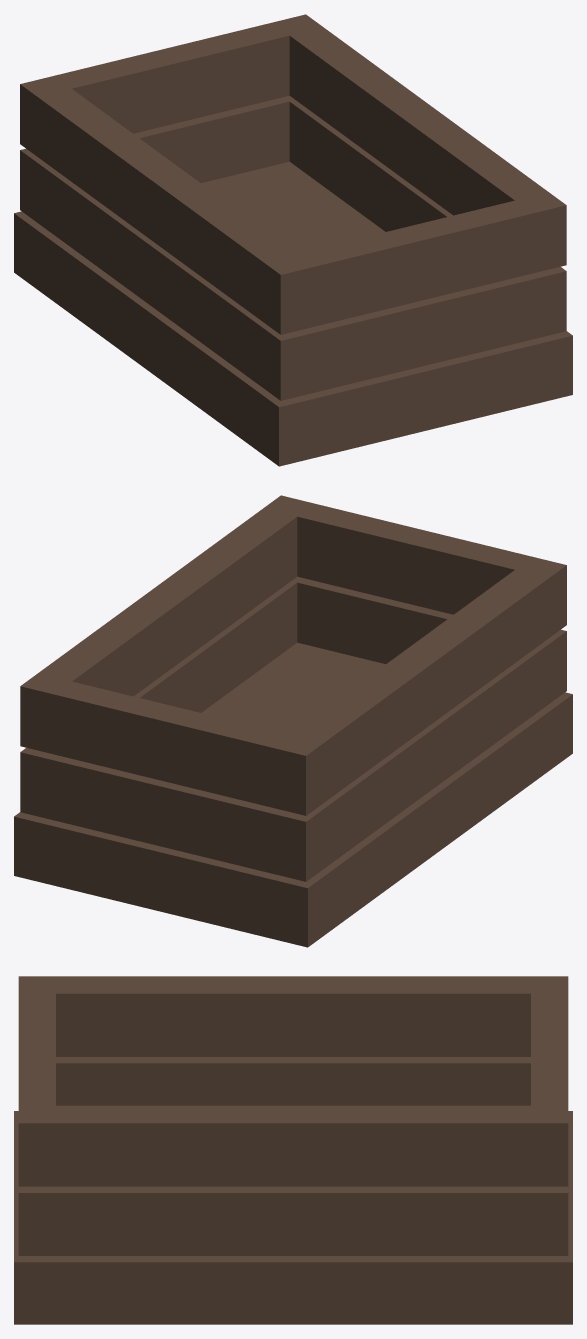
3 renders of one model, top to bottom at view 1: azimuth 30°, elevation 25°; view 2: azimuth 150°, elevation 25°; view 3: azimuth 270°, elevation 25°, orthographic. The views are drawn at different scales.
Visible parts, largest first — view 1: Box_4; view 2: Box_4; view 3: Box_4.
Part boxes in pixels (left/top/right/bottom): Box_4: left=14, top=14, right=572, bottom=466; Box_4: left=14, top=495, right=572, bottom=947; Box_4: left=14, top=976, right=572, bottom=1324.
Bounding box in the file's own units: 13.36 × 8.21 × 20.88.
1 material, 1 textured.
